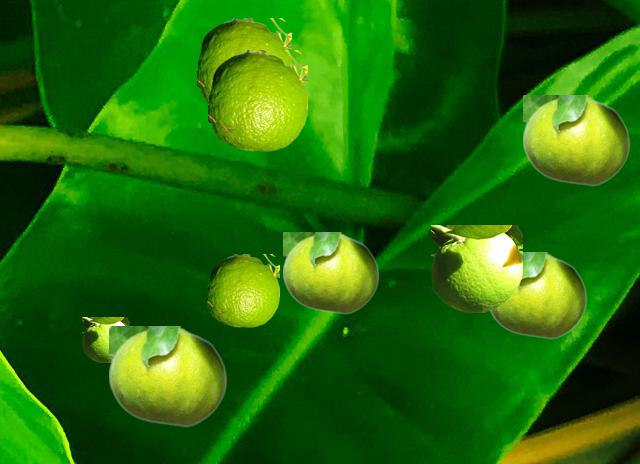dalandan: (109, 326, 226, 426), (208, 50, 306, 150), (523, 95, 629, 185), (490, 252, 586, 338), (197, 18, 290, 103), (431, 225, 521, 311), (283, 232, 378, 313), (207, 254, 278, 326), (82, 317, 128, 361)
